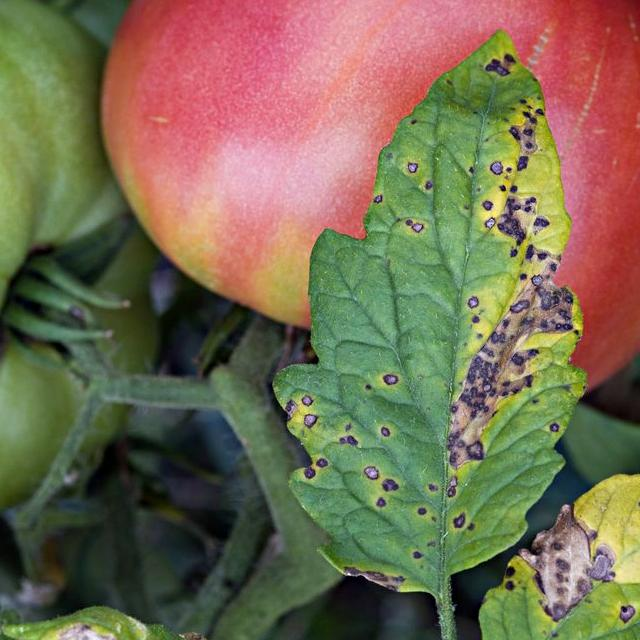Tomato Septoria leaf spot: (300, 38, 596, 600), (480, 471, 640, 637)
